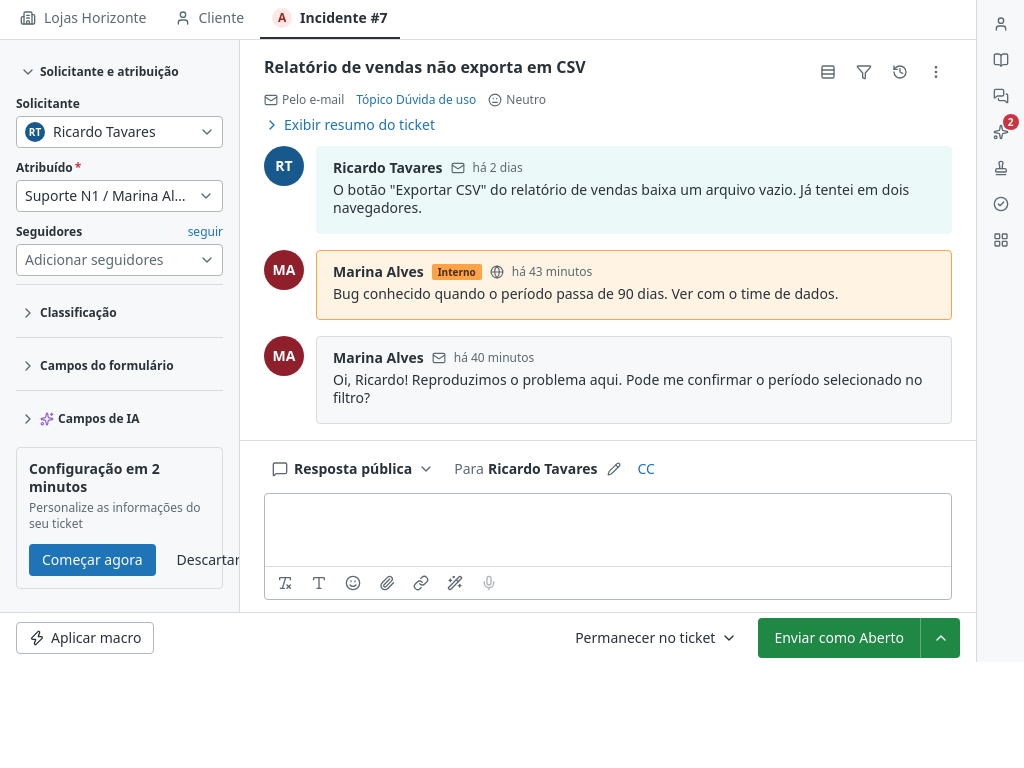
Test: tela do ticket abaixo de 1024 px › o painel direito abre como Drawer e Esc fecha
Expected: the button "Enviar como Aberto" is shown, [758,618,920,658]
Click the button named "Conhecimento" at (1000, 60), box [984,44,1016,76]
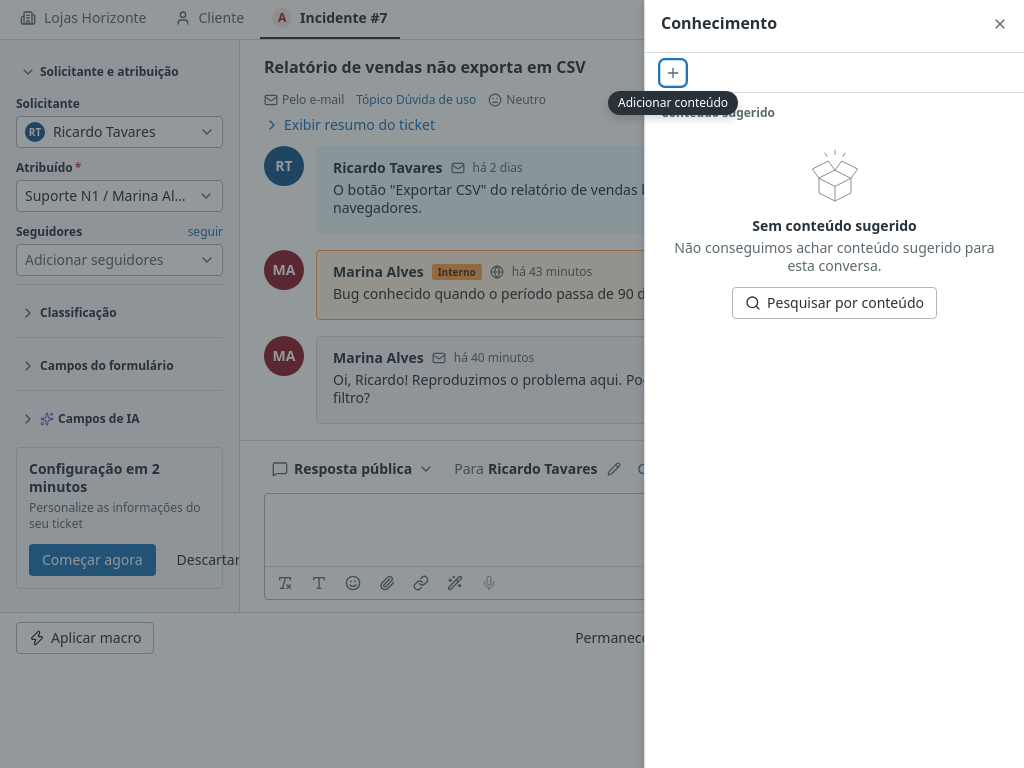
Result: the dialog "Conhecimento" is shown at [644,0,1023,767]
Note: O foco cai num botão com tooltip: o 1º Esc fecha o tooltip, o 2º fecha o Drawer.
Press Escape Escape
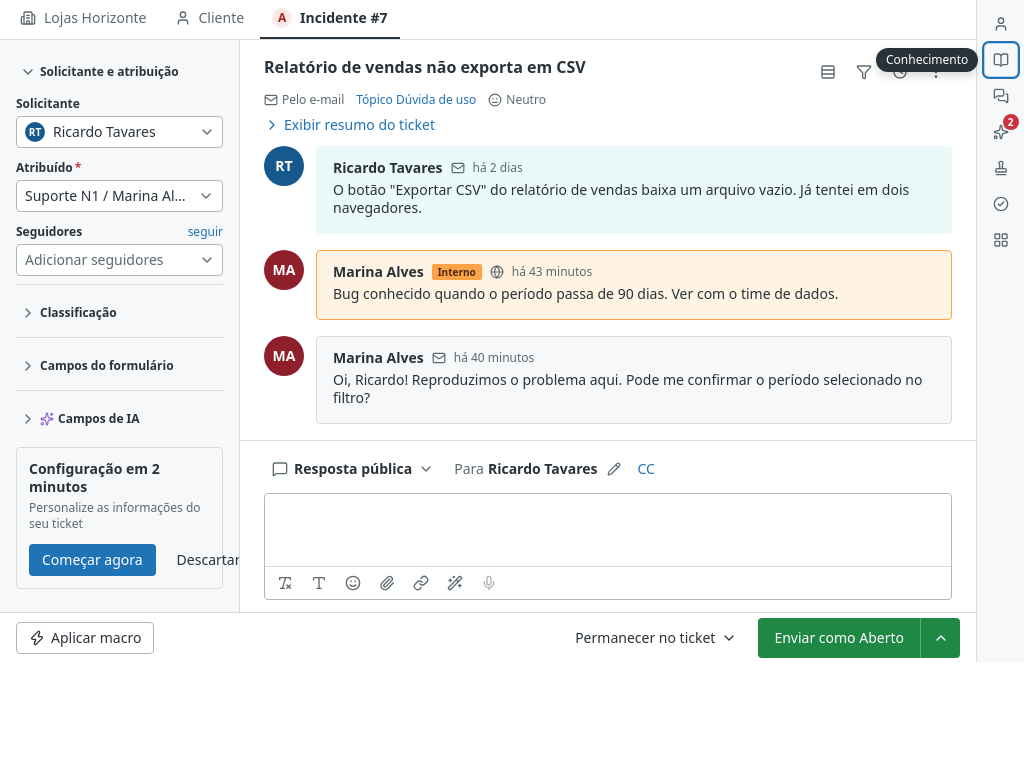
Result: the dialog is gone
